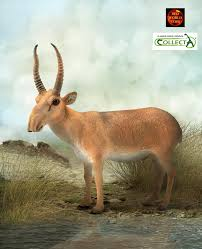saiga: (26, 43, 182, 216)
